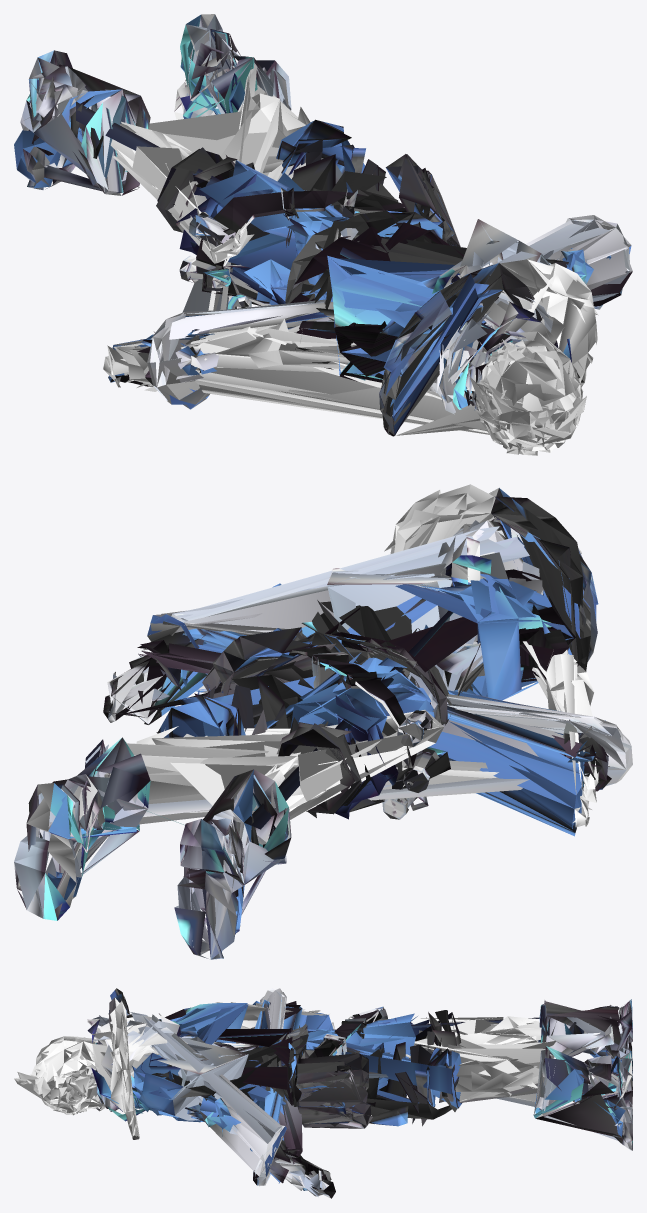
Rendered from nanzhuang1.fbx.
The picture shows the model from 3 angles, top to bottom: view 1: azimuth 30°, elevation 25°; view 2: azimuth 150°, elevation 25°; view 3: azimuth 270°, elevation 25°; orthographic projection. The views are drawn at different scales.
Parts seen in each view (by area): view 1: polySurface21; view 2: polySurface21; view 3: polySurface21.
Boxes of the visible parts, x1,y1,x2,y2 form: polySurface21: [14, 14, 632, 455]; polySurface21: [14, 484, 632, 959]; polySurface21: [14, 988, 632, 1198].
Bounding box in the file's own units: 3.59 × 1.3 × 5.77.
2 materials, 1 textured.
